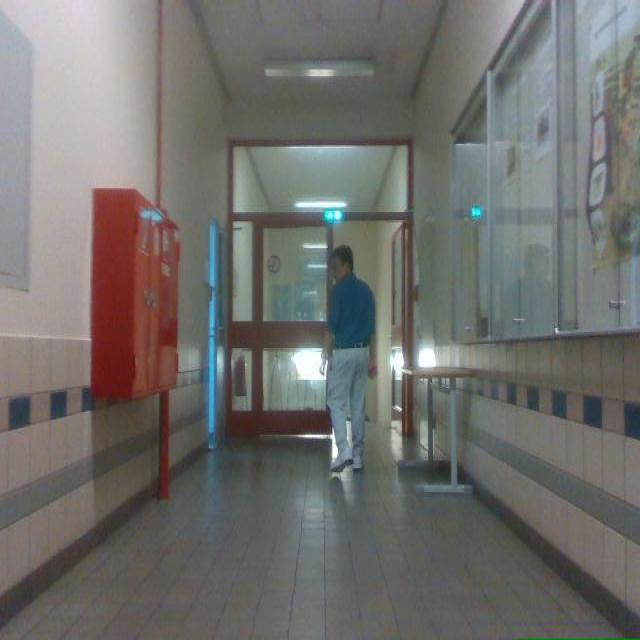humans: (320, 247, 376, 472)
objects: (402, 367, 474, 493)
